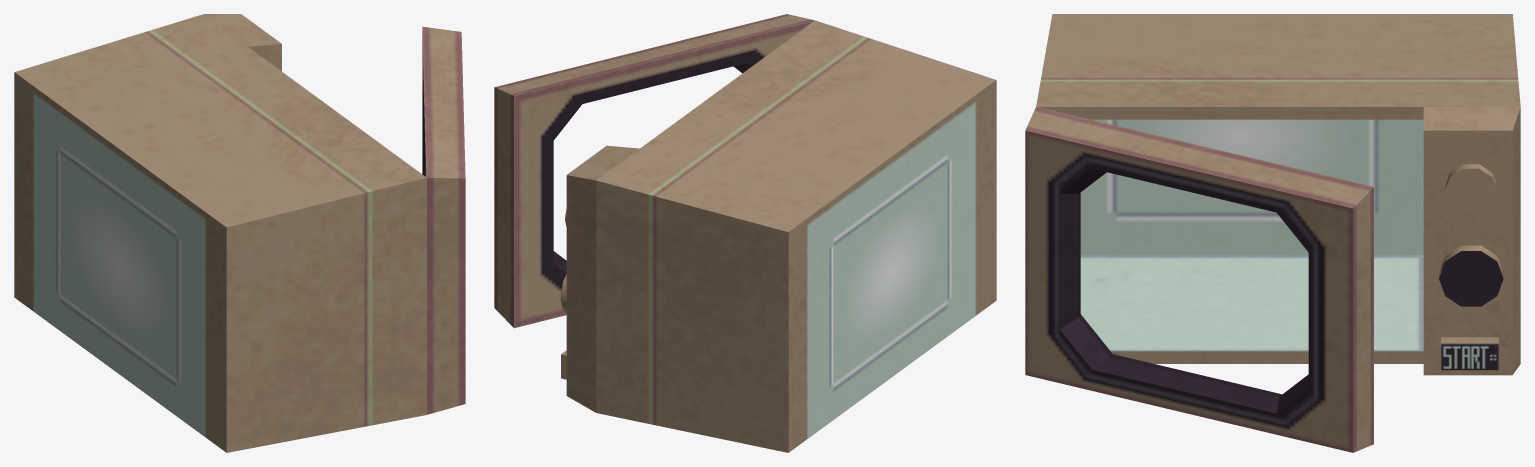
Rendered from MCIR.fbx.
3 views of the same model, side by side, from view 1: azimuth 30°, elevation 25°; view 2: azimuth 150°, elevation 25°; view 3: azimuth 270°, elevation 25° (orthographic). The views are drawn at different scales.
Parts seen in each view (by area): view 1: Microwave_Base, Microwave_Door; view 2: Microwave_Base, Microwave_Door; view 3: Microwave_Base, Microwave_Door.
Part boxes in pixels (bbox=[...]): Microwave_Base: bbox=[14, 14, 426, 452]; Microwave_Door: bbox=[422, 26, 465, 414]; Microwave_Base: bbox=[560, 20, 996, 452]; Microwave_Door: bbox=[494, 14, 814, 328]; Microwave_Base: bbox=[1036, 14, 1520, 375]; Microwave_Door: bbox=[1025, 107, 1373, 452].
Bounding box in the file's own units: 330 × 200 × 349.
